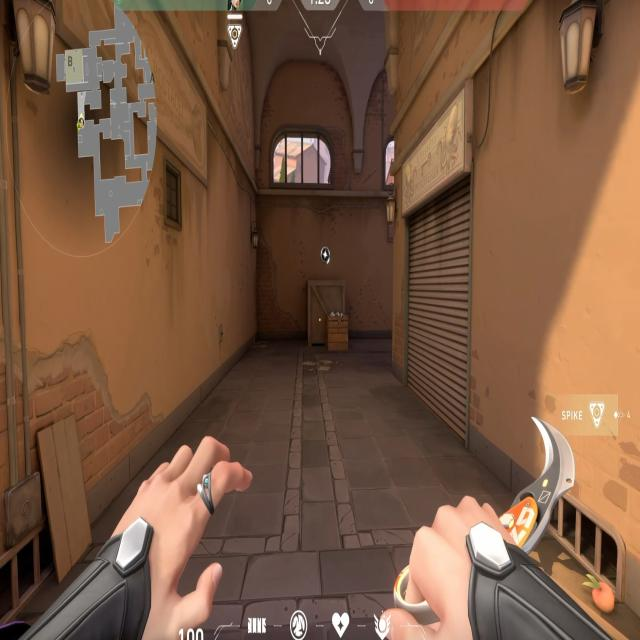B_Main_Wallbang: (303, 236, 355, 355)
Throwables: (265, 113, 340, 199)
